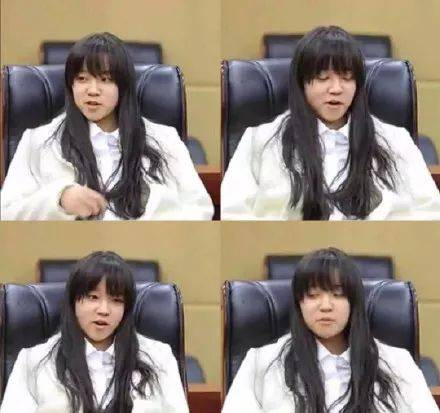no_mask: (286, 24, 363, 123), (60, 250, 138, 343), (289, 247, 363, 341), (63, 27, 132, 123)
